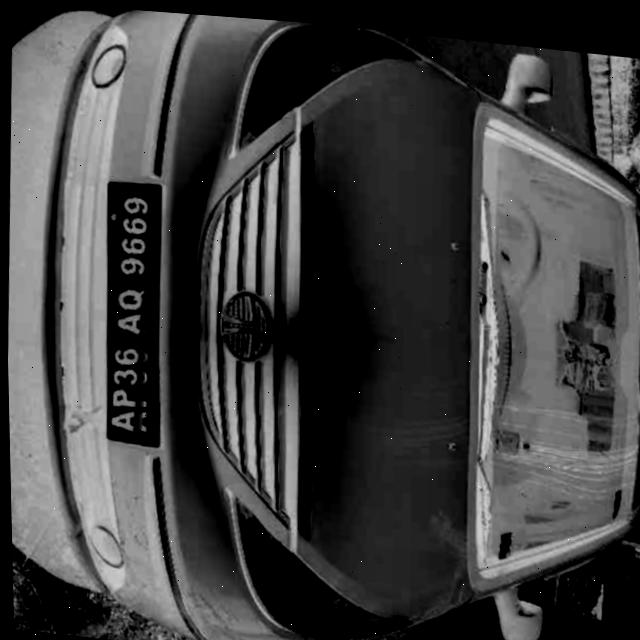Non_registered: (100, 181, 160, 441)
